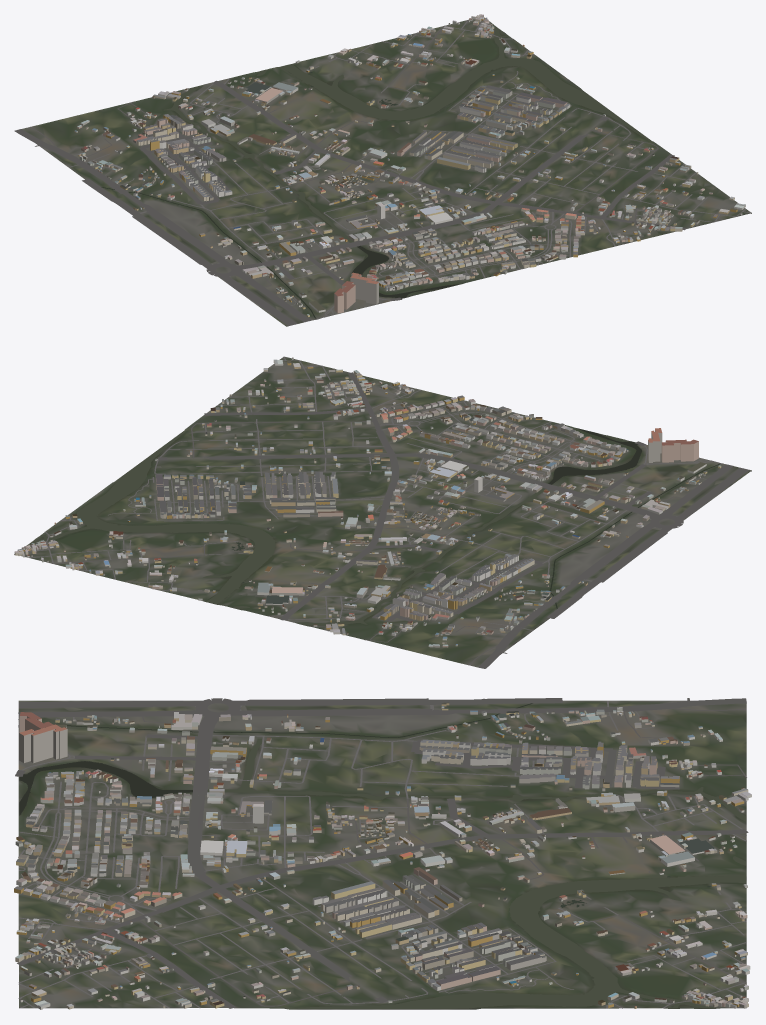
3 views of the same model, one above another, from view 1: azimuth 30°, elevation 25°; view 2: azimuth 150°, elevation 25°; view 3: azimuth 270°, elevation 25° (orthographic). The views are drawn at different scales.
Parts seen in each view (by area): view 1: ground, buildings, roads, water; view 2: ground, buildings, roads, water; view 3: ground, buildings, roads, water.
Part boxes in pixels (x1,y1,x2,y2): ground: (22, 18, 751, 326); buildings: (74, 14, 745, 316); roads: (14, 20, 751, 325); water: (101, 25, 650, 318); ground: (14, 356, 751, 667); buildings: (14, 357, 721, 647); roads: (28, 356, 749, 668); water: (27, 428, 720, 625); ground: (18, 700, 746, 1009); buildings: (14, 702, 751, 1009); roads: (15, 698, 748, 1008); water: (19, 703, 746, 1008).
Size of the model in its own units: 1419 by 64.3 by 1420.
